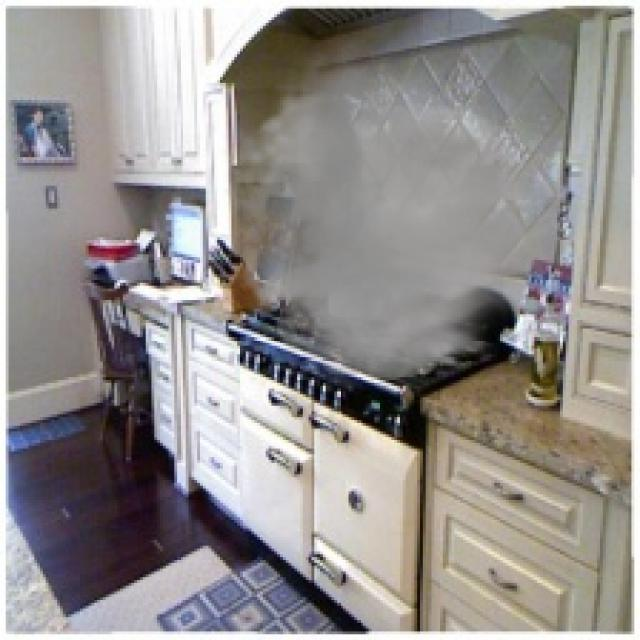Smoke: (208, 37, 580, 389)
